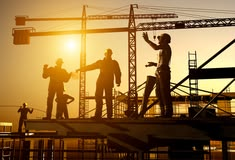crane: (114, 2, 233, 142), (10, 6, 107, 134)
person: (138, 30, 181, 122), (80, 43, 122, 125), (41, 52, 74, 126), (15, 100, 37, 139)
